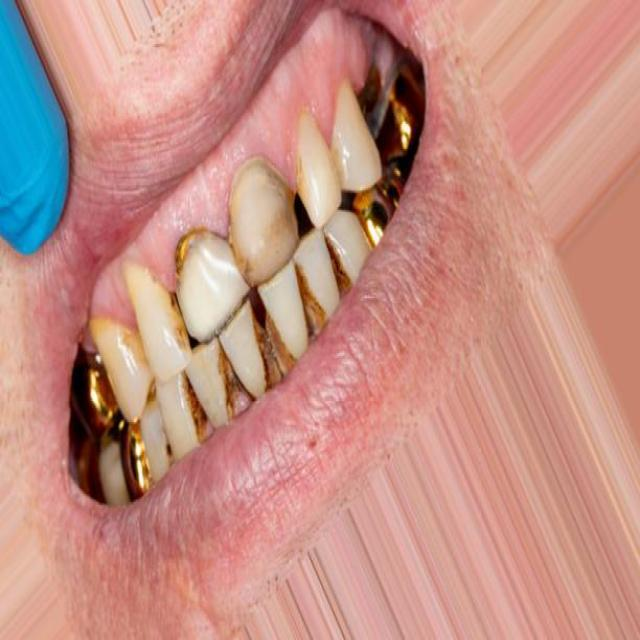caries: (283, 172, 321, 248)
